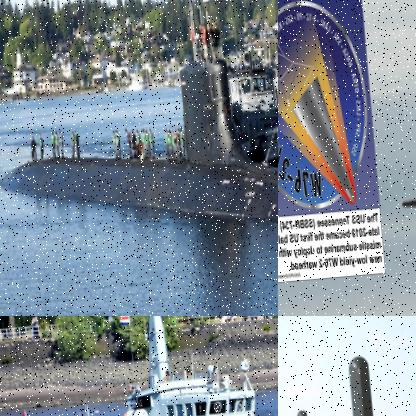Patrol Boat: (0, 316, 277, 415)
Submarine: (0, 0, 277, 255), (385, 0, 415, 315), (313, 353, 406, 415), (359, 316, 415, 415)
Tugboat: (226, 49, 277, 184)
